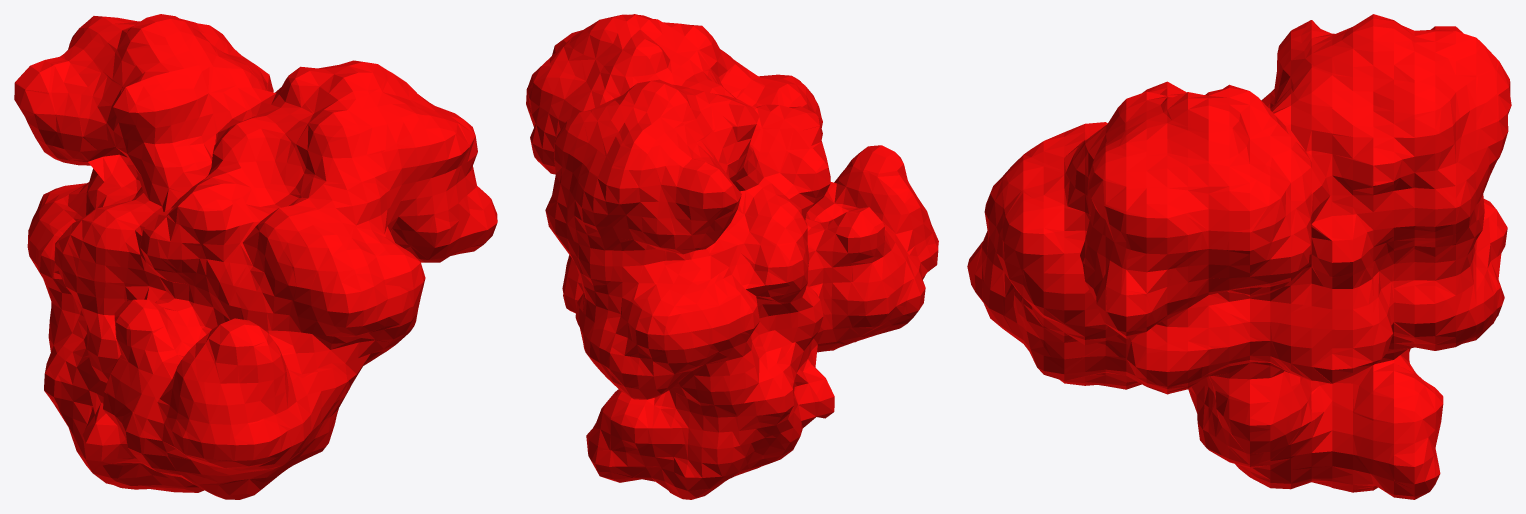
File: galU_coarse.dae
The picture shows the model from 3 angles, left to right: view 1: azimuth 30°, elevation 25°; view 2: azimuth 150°, elevation 25°; view 3: azimuth 270°, elevation 25°; orthographic projection. The views are drawn at different scales.
Parts seen in each view (by area): view 1: galU; view 2: galU; view 3: galU.
Part boxes in pixels (left/top/right/bottom): galU: left=14, top=14, right=497, bottom=499; galU: left=526, top=14, right=938, bottom=499; galU: left=967, top=14, right=1511, bottom=499.
Size of the model in its own units: 82.72 by 92.15 by 94.36.
